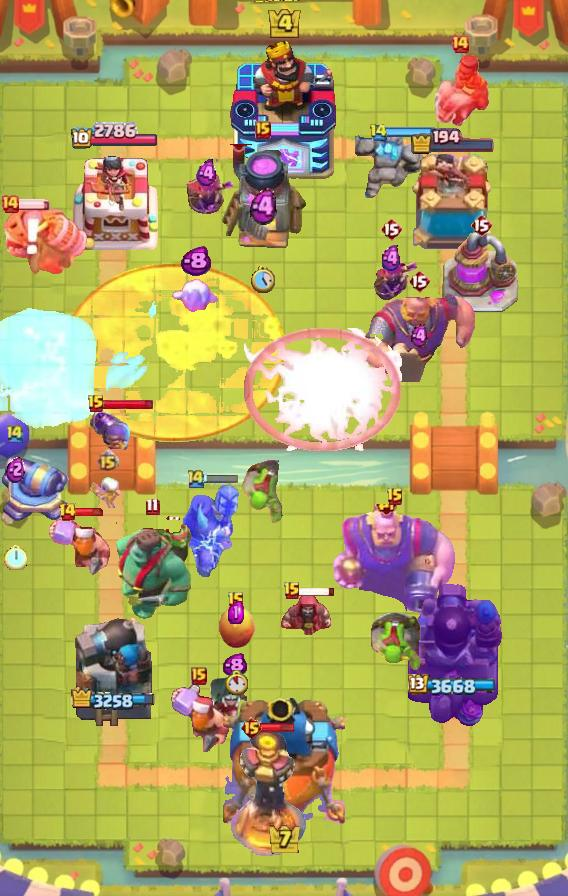bar-level: (370, 611, 424, 673), (241, 460, 291, 526)
barbarian-evolution: (244, 329, 402, 452)
bowler: (280, 591, 332, 639)
electro-dragon: (229, 731, 307, 859)
electro-spirit: (251, 188, 278, 226), (180, 247, 211, 278), (380, 244, 405, 271), (196, 159, 218, 188), (222, 654, 247, 679), (6, 457, 26, 484), (412, 324, 429, 348), (228, 601, 244, 624)
elite-barbarian: (430, 52, 490, 128)
elixir: (251, 266, 275, 294), (4, 544, 28, 570), (225, 670, 248, 695)
emote: (102, 398, 154, 411), (385, 126, 437, 138), (13, 198, 51, 210), (261, 722, 296, 734), (299, 586, 336, 597), (204, 472, 240, 483), (74, 507, 106, 517)
evolution-symbol: (363, 245, 419, 305), (181, 169, 233, 227)
firecracker-evolution: (89, 409, 131, 452)
heal-spirit: (90, 476, 124, 508)
hog: (217, 602, 255, 650)
hunter: (218, 144, 308, 252)
inferno-dragon: (182, 483, 240, 577)
king-tower: (223, 698, 345, 826), (230, 41, 338, 181)
lava-hound: (108, 513, 196, 623)
lightning: (331, 504, 459, 618), (360, 292, 478, 382)
mega-knight: (0, 287, 160, 433)
mighty-miner: (167, 684, 231, 754), (48, 514, 112, 578)
mirror: (170, 278, 220, 316)
night-witch: (0, 207, 90, 281)
pekka: (442, 232, 520, 314)
phoenix-egg: (62, 264, 286, 442)
queen-tower: (405, 154, 501, 256), (67, 152, 161, 256)
royal-recruit: (0, 445, 72, 529)
selected: (69, 122, 158, 151), (410, 128, 496, 155), (71, 687, 157, 713), (408, 674, 498, 698)
tesla: (208, 674, 260, 728)
text: (97, 448, 120, 472), (241, 716, 264, 740), (470, 213, 492, 237), (380, 217, 402, 241), (408, 269, 430, 293), (5, 423, 25, 445), (186, 467, 206, 489), (450, 34, 470, 54), (0, 194, 20, 214), (368, 122, 388, 141), (58, 502, 77, 522), (87, 394, 105, 414), (386, 487, 404, 507), (283, 581, 301, 601), (227, 591, 245, 611), (255, 121, 271, 139), (191, 667, 207, 685), (145, 497, 160, 515)
tower-bar: (402, 579, 504, 731), (71, 611, 157, 731)
valkyrie-evolution: (355, 134, 427, 204)
